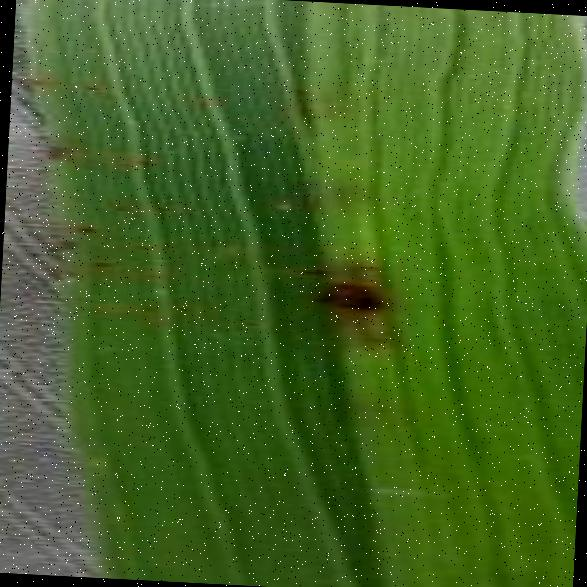Brown_Spot: (302, 265, 391, 322), (36, 130, 76, 168), (294, 256, 331, 282), (129, 295, 164, 320), (70, 215, 102, 238), (88, 252, 115, 272), (26, 70, 49, 93), (79, 76, 102, 98), (130, 234, 154, 255), (128, 150, 154, 169), (110, 198, 132, 213)
